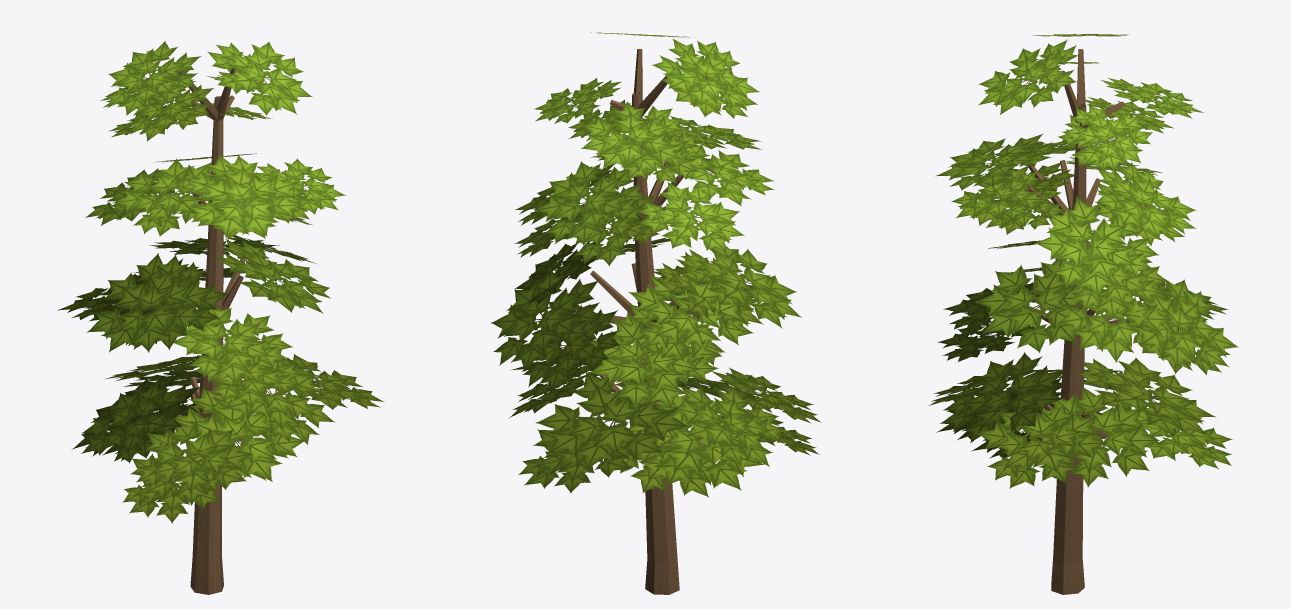
The model's file is maple2_c.glb.
3 renders of one model, left to right at view 1: azimuth 30°, elevation 25°; view 2: azimuth 150°, elevation 25°; view 3: azimuth 270°, elevation 25°, orthographic. The views are drawn at different scales.
Parts seen in each view (by area): view 1: maple2_c; view 2: maple2_c; view 3: maple2_c.
Part boxes in pixels (x1,y1,x2,y2): maple2_c: [57, 41, 384, 594]; maple2_c: [490, 32, 821, 594]; maple2_c: [929, 34, 1238, 594].
Size of the model in its own units: 3.59 by 5.54 by 3.48.
2 materials, 2 textured.
